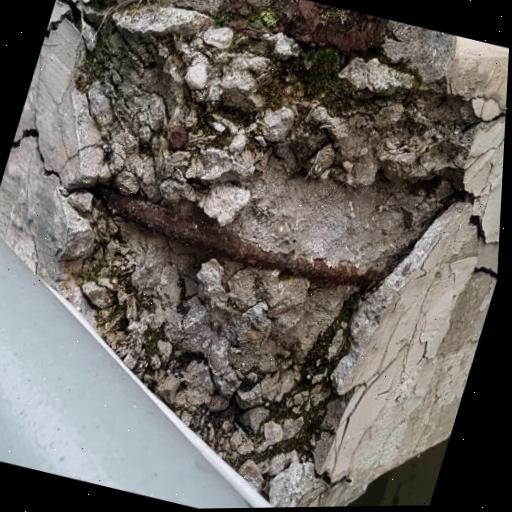exposed_rebar: (93, 185, 384, 286)
